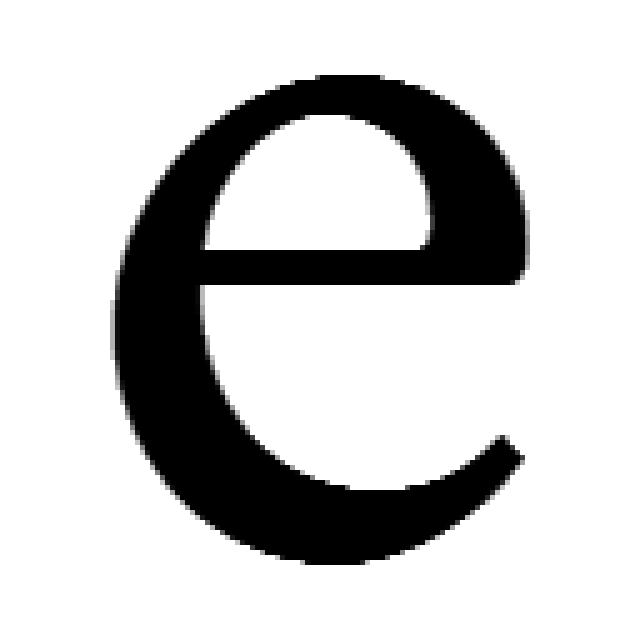E: (110, 75, 535, 570)
